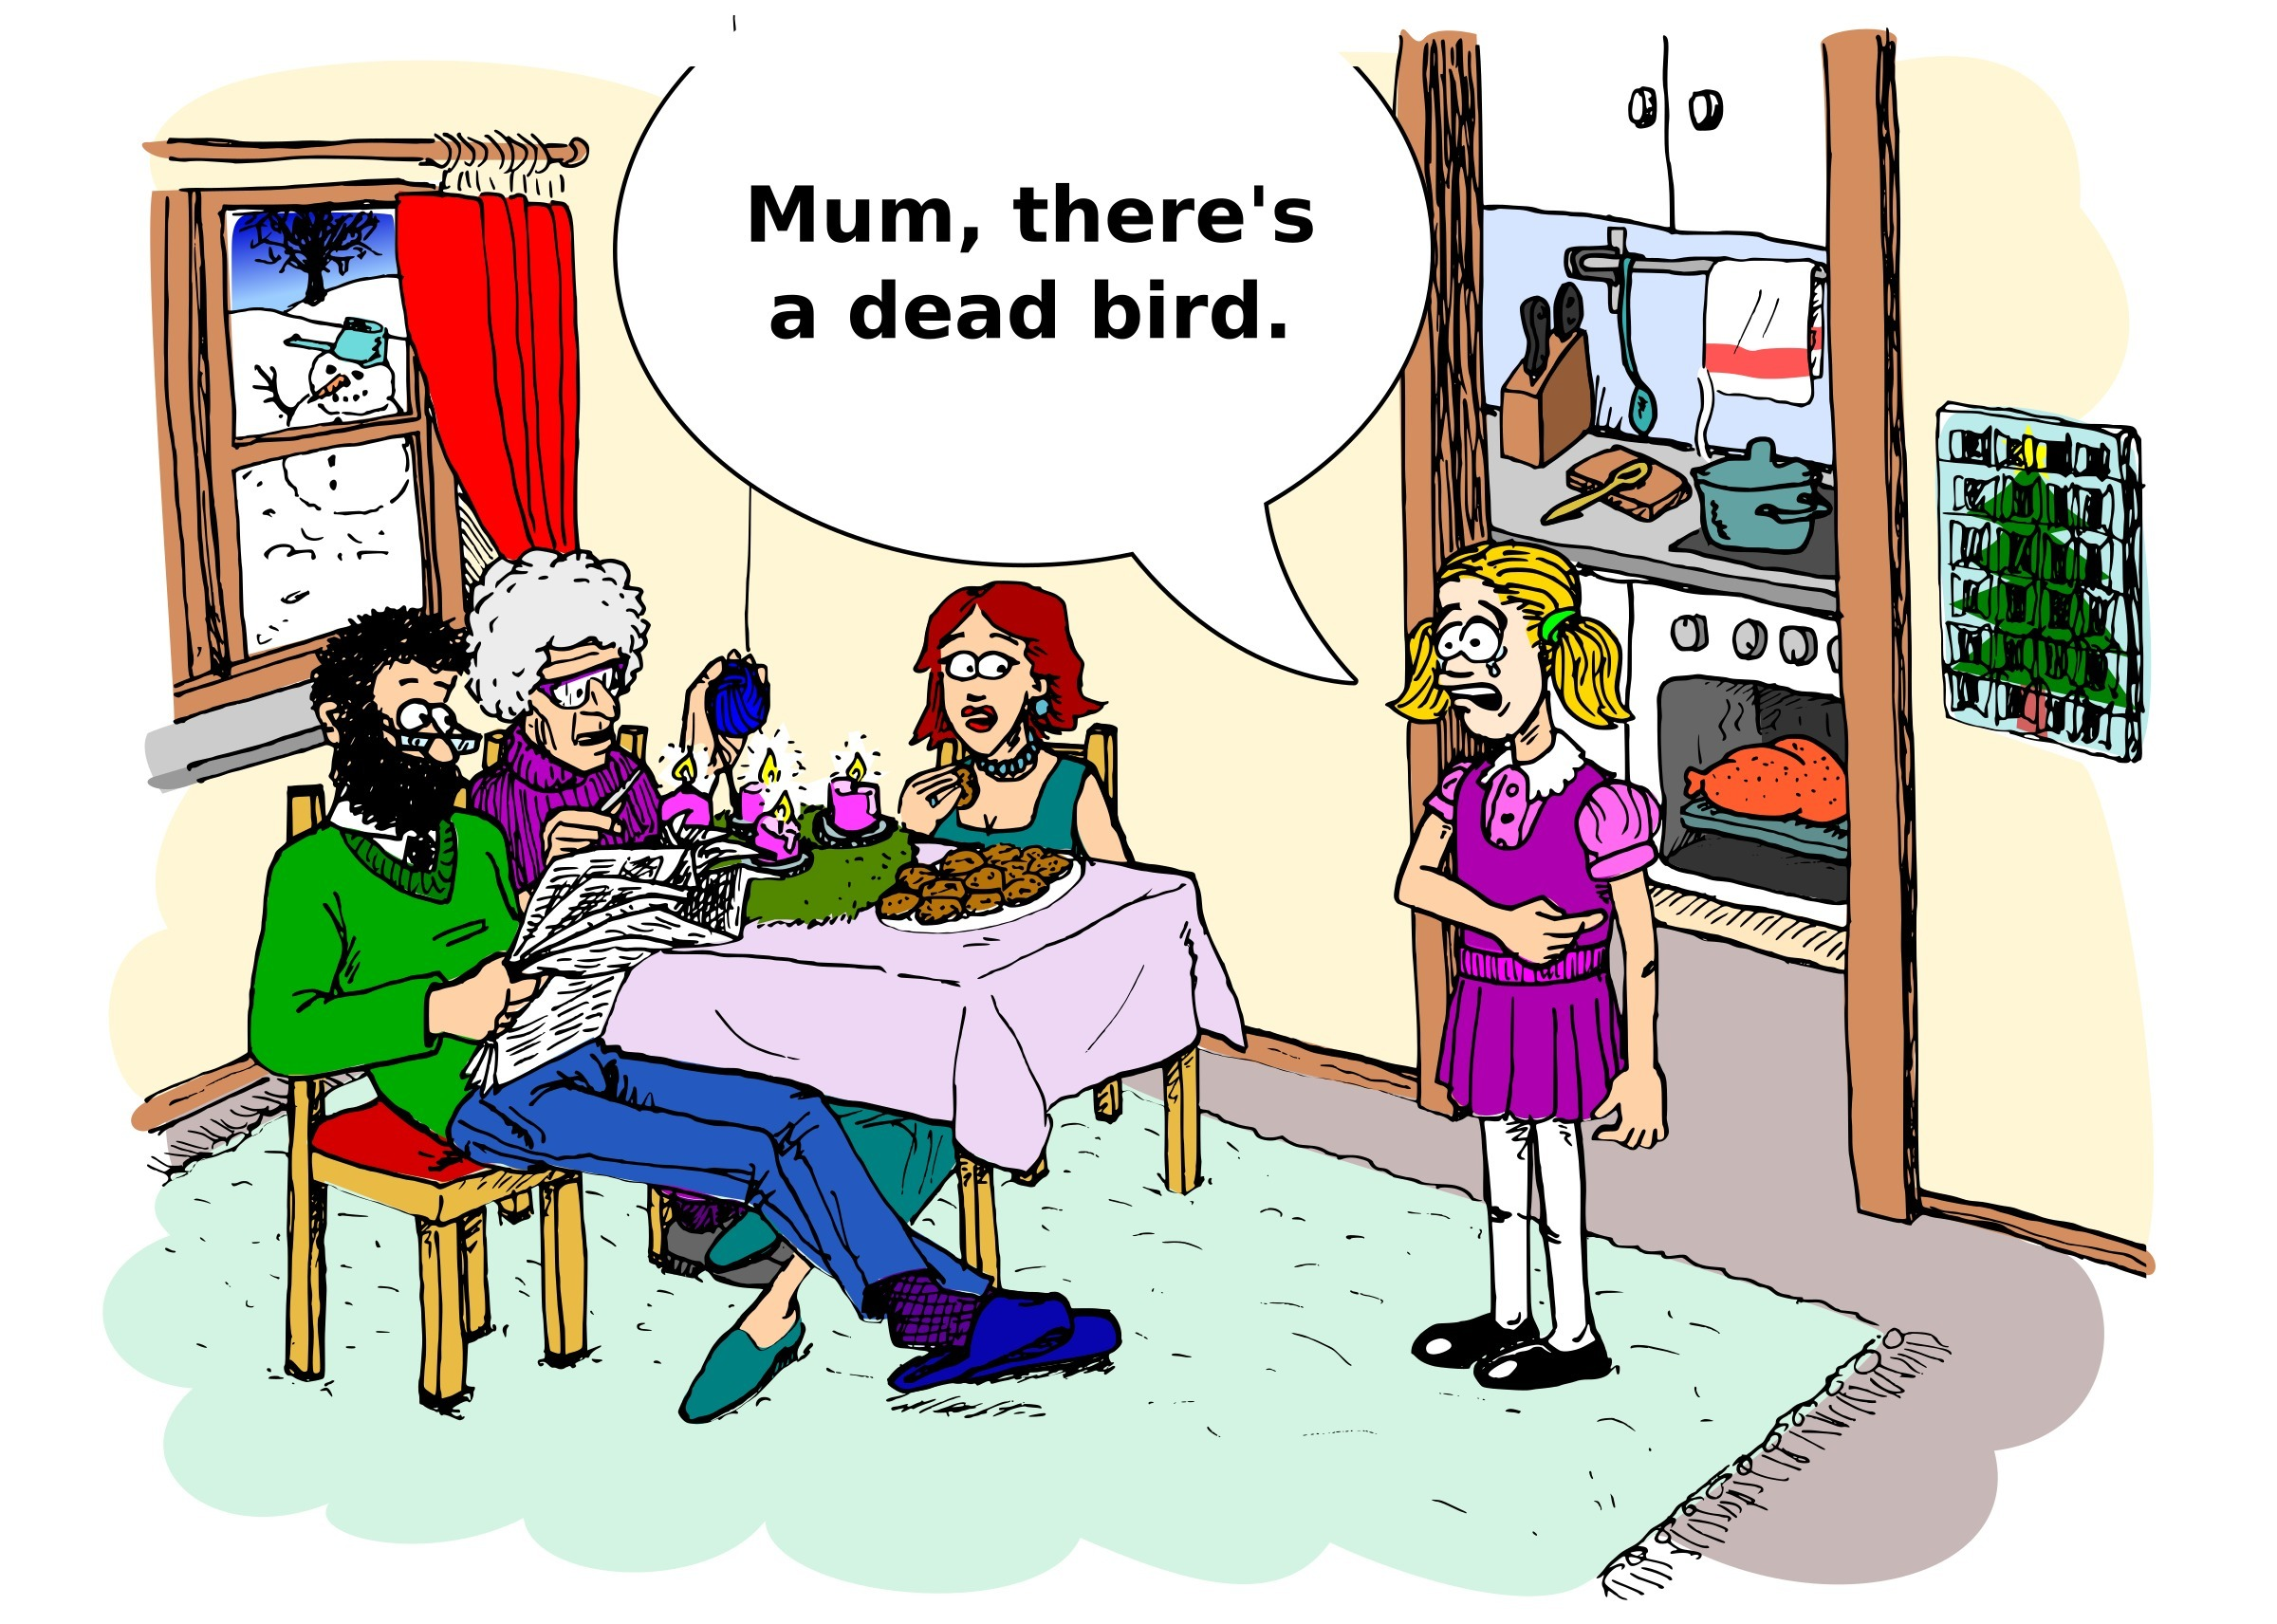chair: (281, 783, 592, 1420)
diningtable: (600, 809, 1258, 1308)
person: (237, 598, 1141, 1403), (665, 571, 1144, 1431), (451, 551, 801, 1288), (1380, 539, 1679, 1393)
